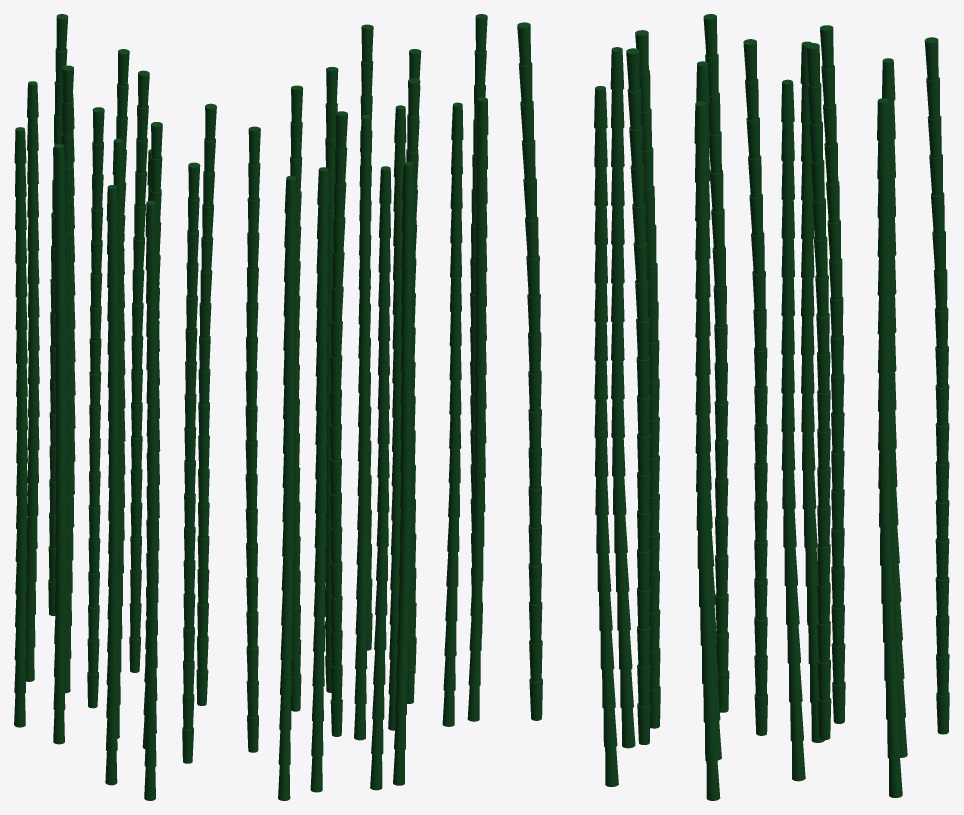
Rendered from bambook.fbx.
3 views of the same model, side by side, from view 1: azimuth 30°, elevation 25°; view 2: azimuth 150°, elevation 25°; view 3: azimuth 270°, elevation 25° (orthographic). The views are drawn at different scales.
Visible parts, largest first — view 1: bambuk; view 2: bambuk; view 3: bambuk.
Boxes of the visible parts, x1,y1,x2,y2 form: bambuk: [14, 14, 216, 800]; bambuk: [245, 14, 488, 800]; bambuk: [517, 14, 949, 800].
Bounding box in the file's own units: 146 × 745 × 378.
